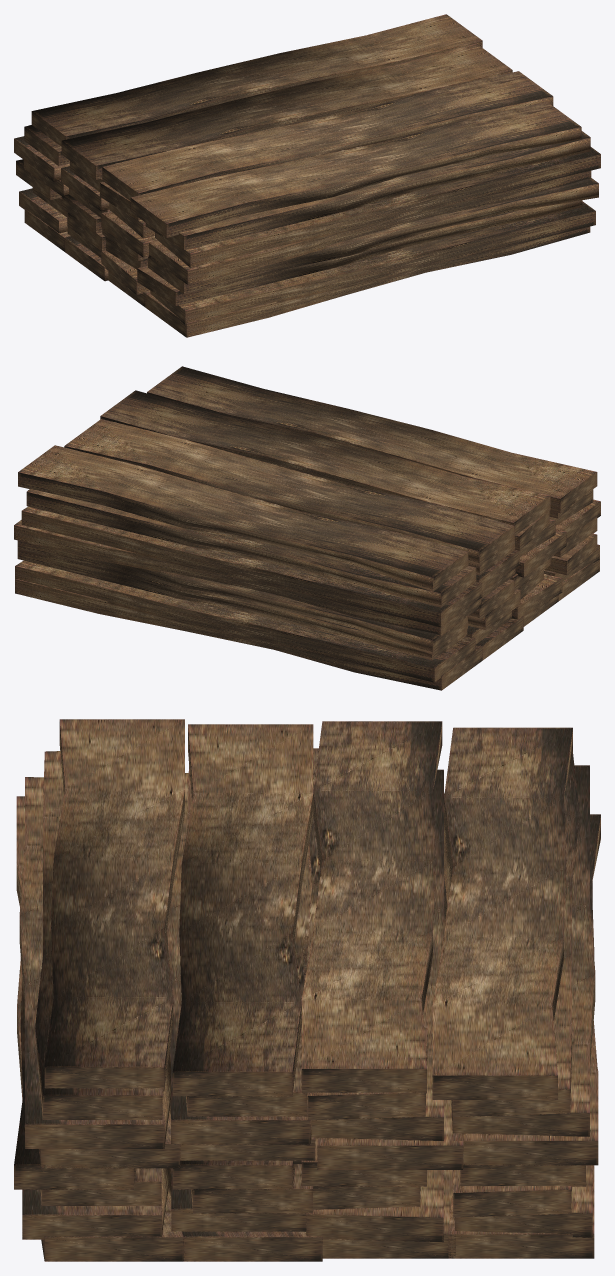
Rendered from planks.fbx.
The picture shows the model from 3 angles, top to bottom: view 1: azimuth 30°, elevation 25°; view 2: azimuth 150°, elevation 25°; view 3: azimuth 270°, elevation 25°; orthographic projection. The views are drawn at different scales.
Parts seen in each view (by area): view 1: planks; view 2: planks; view 3: planks.
Part boxes in pixels (x1=…): planks: x1=14, y1=14, x2=600, y2=337; planks: x1=14, y1=366, x2=600, y2=690; planks: x1=14, y1=719, x2=600, y2=1261.
Size of the model in its own units: 1219 by 300 by 841.
Materials: 1 (1 with a texture image).
